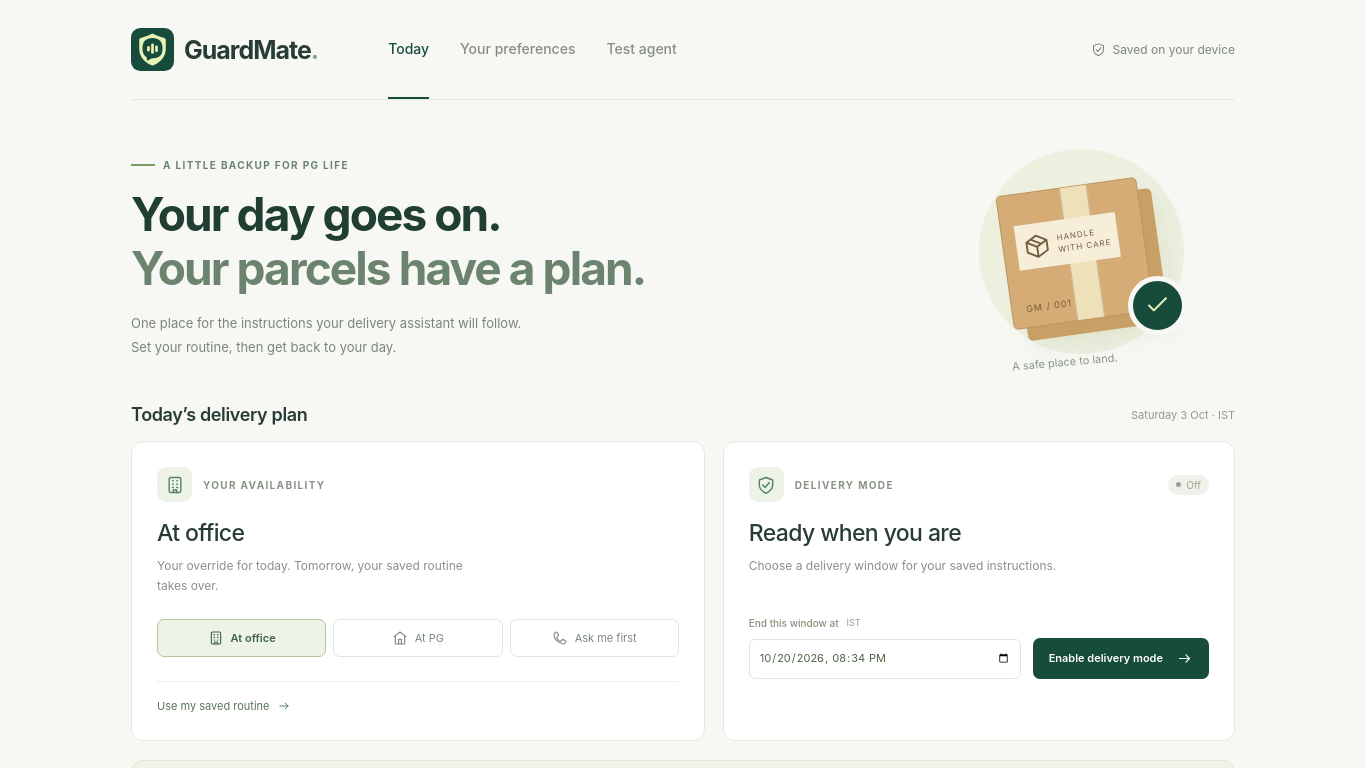
Scenario: dashboard interaction isolation › cannot roll back a new availability save with an older polling response
The image size is (1366, 768).
Click the button "At PG" at (418, 638), box x1=333 y1=619 x2=503 y2=657
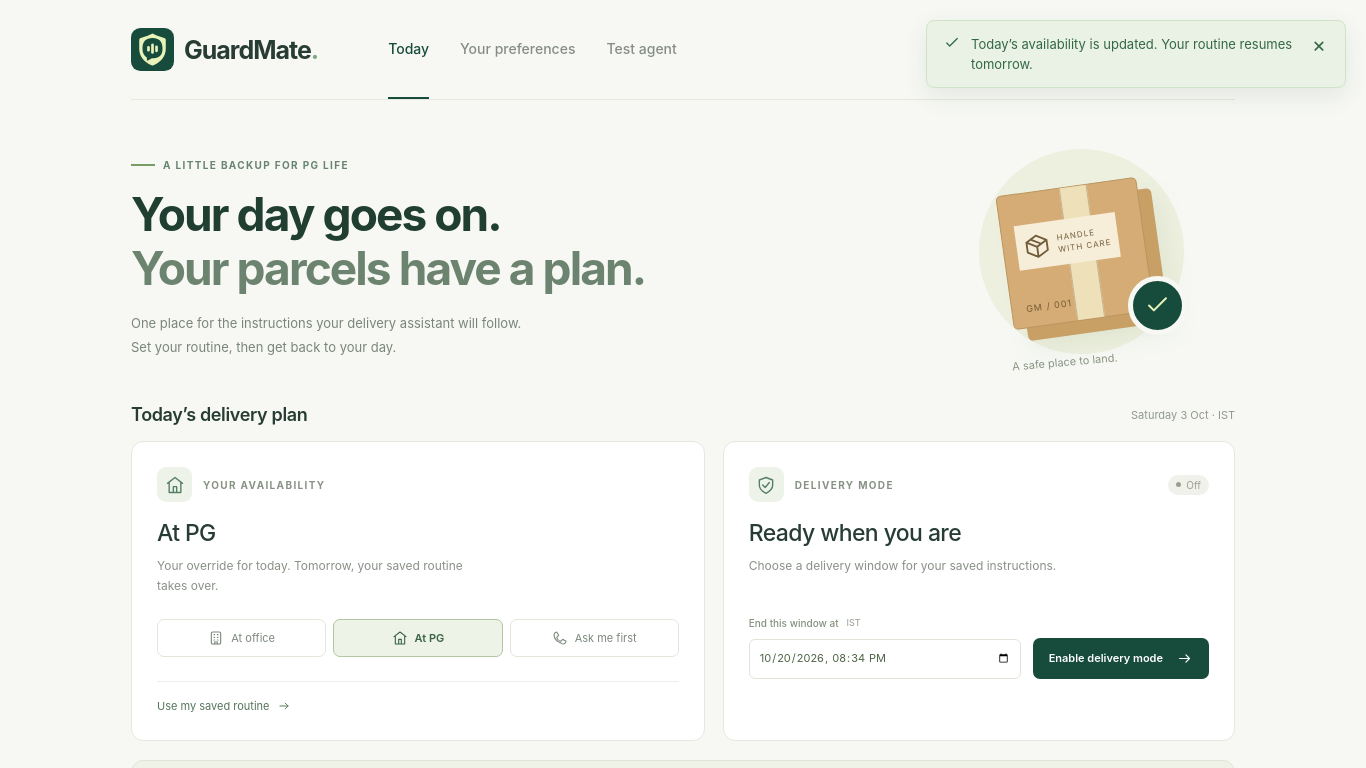
Check: the heading "At PG" is shown, box x1=157 y1=519 x2=216 y2=547
